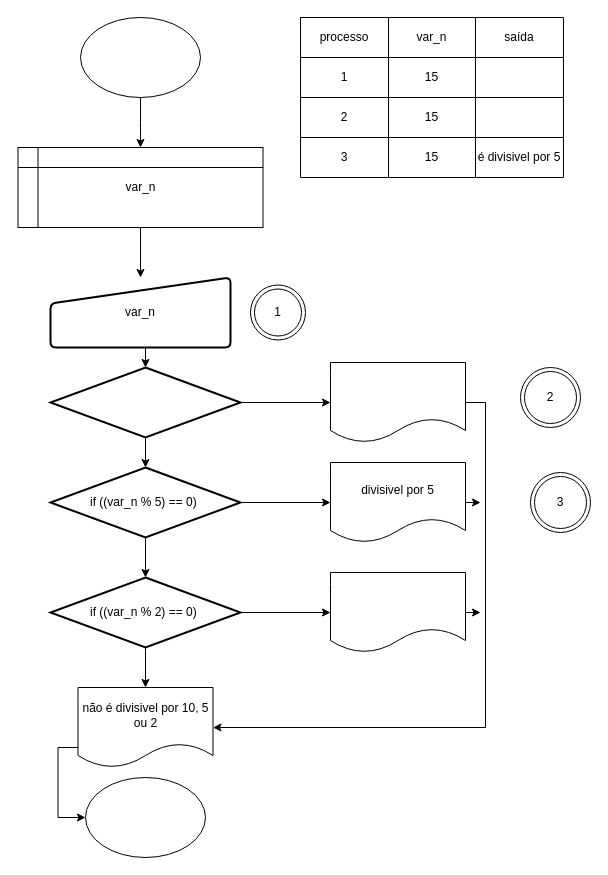
Image size: 608x875. Some labels were removed from this diagram. The centre of each missing label's shape, as x and y in pixels:
"divisivel por 10" belongs at point 398,402.
"divisivel por 2" belongs at point 398,612.
"fim" belongs at point 145,817.
"if ((var_n % 10) == 0)" belongs at point 145,402.
"início" belongs at point 140,57.
